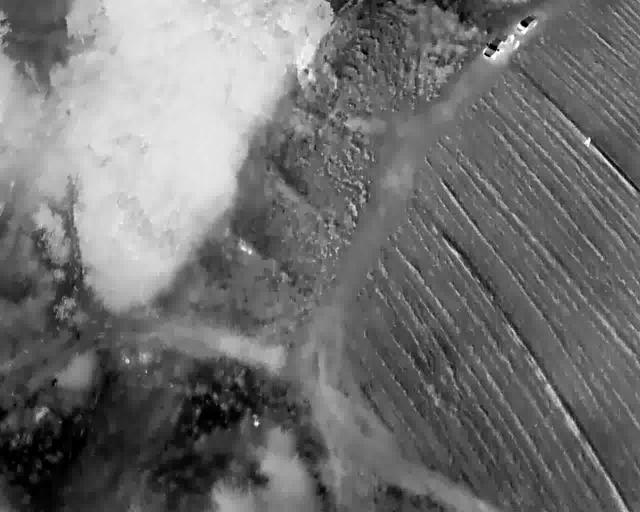person: (573, 73, 579, 83)
